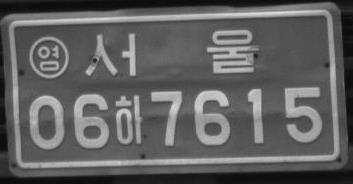0: (27, 93, 69, 151)
1: (239, 87, 275, 145)
5: (283, 85, 324, 144)
6: (192, 89, 233, 145), (73, 93, 110, 149)
7: (149, 90, 184, 148)
서울_D: (83, 27, 259, 77)
영: (28, 35, 69, 79)
하: (113, 94, 144, 145)
